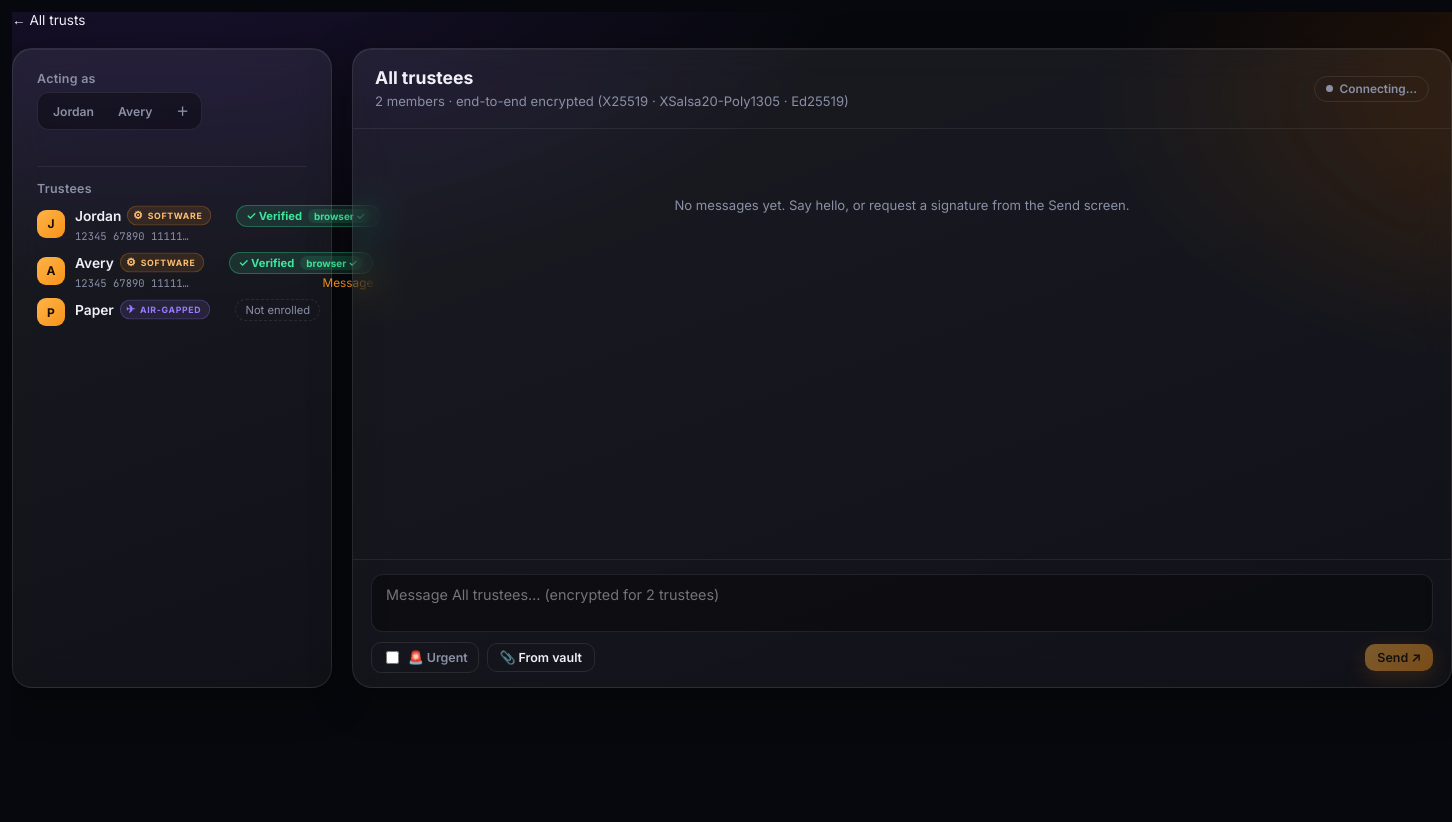
Messages page › queues messages while the node is unreachable and flushes them later
Type "sent from the cabin" into the 2nd text box with test id "compose" at (902, 603), box [371, 574, 1433, 632]
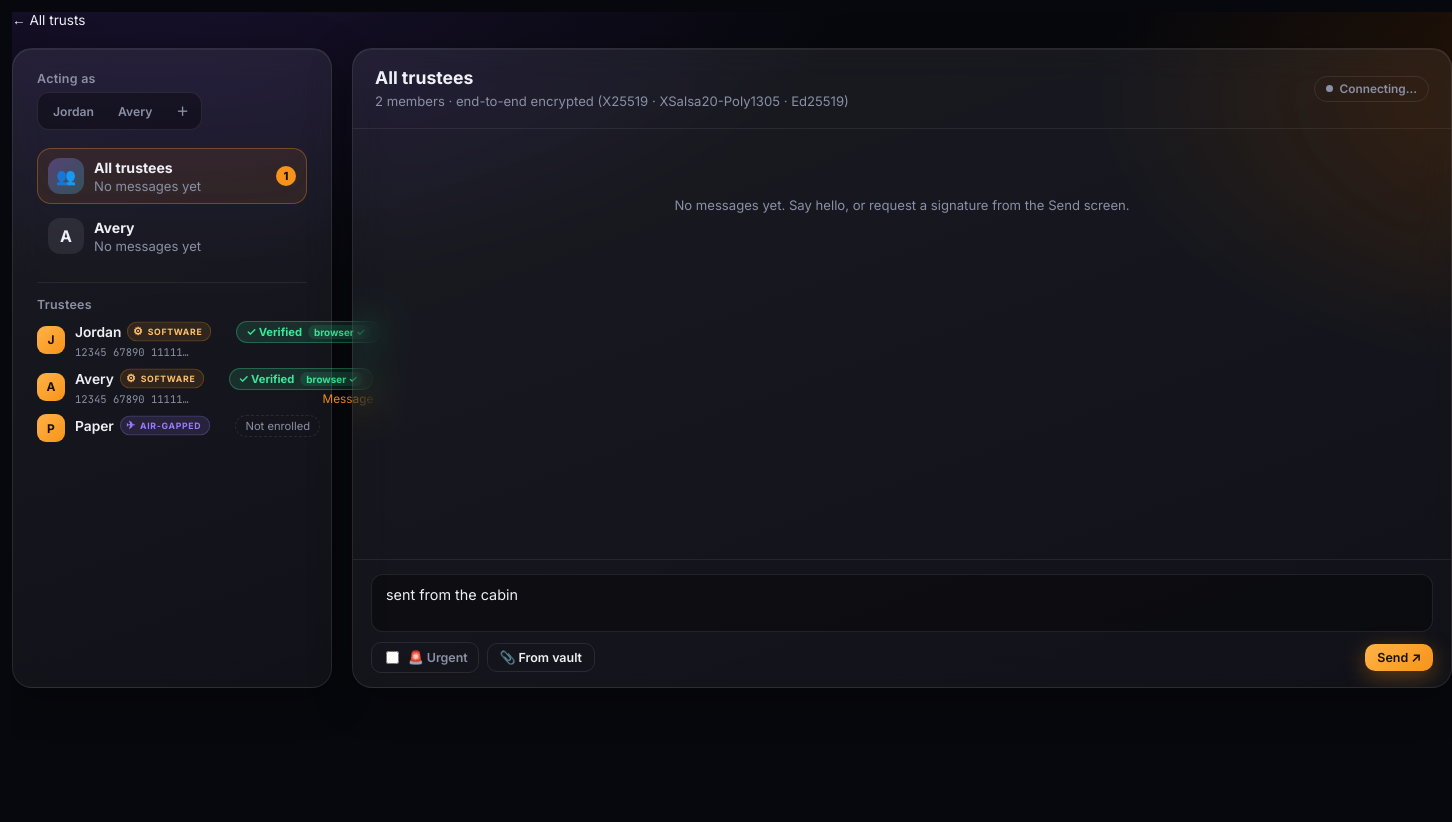
Click the button with test id "send" at (1399, 658), box [1365, 644, 1433, 671]
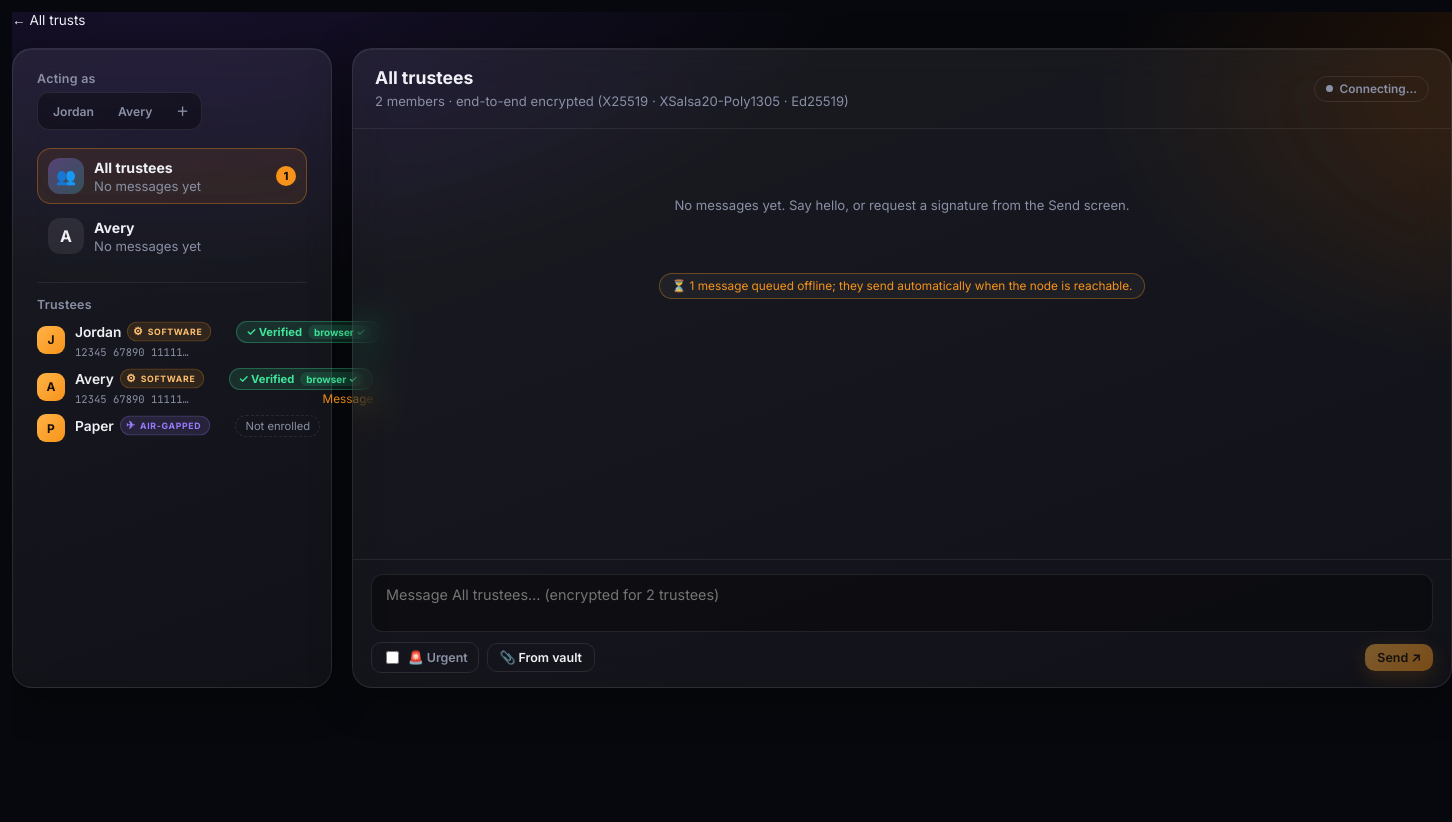
Expected: the text "1 message queued offline" is shown, [658, 273, 1146, 299]
